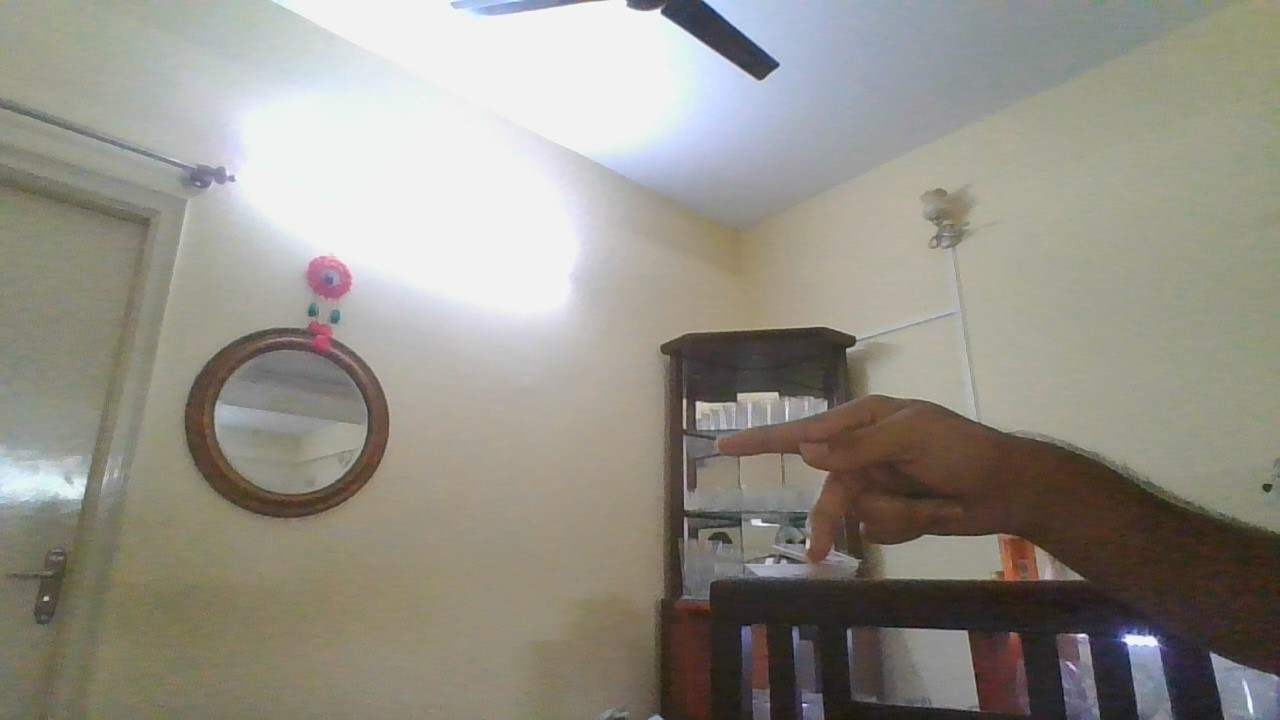p: (715, 392, 1020, 566)
